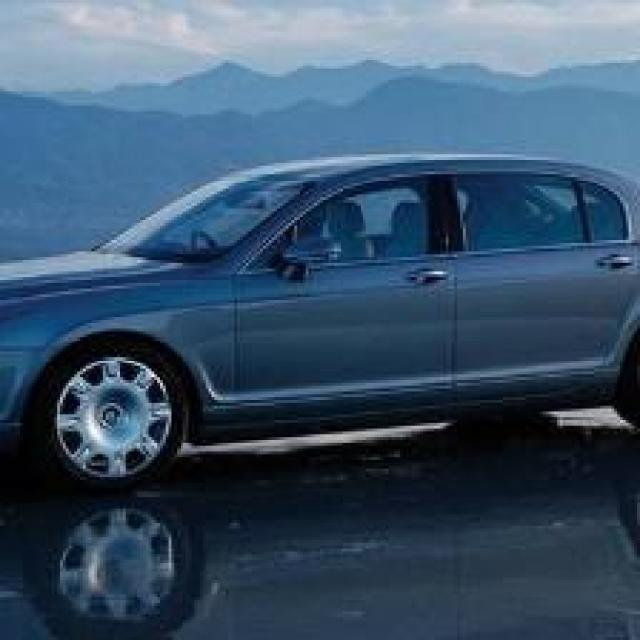damaged: (197, 306, 634, 348)
